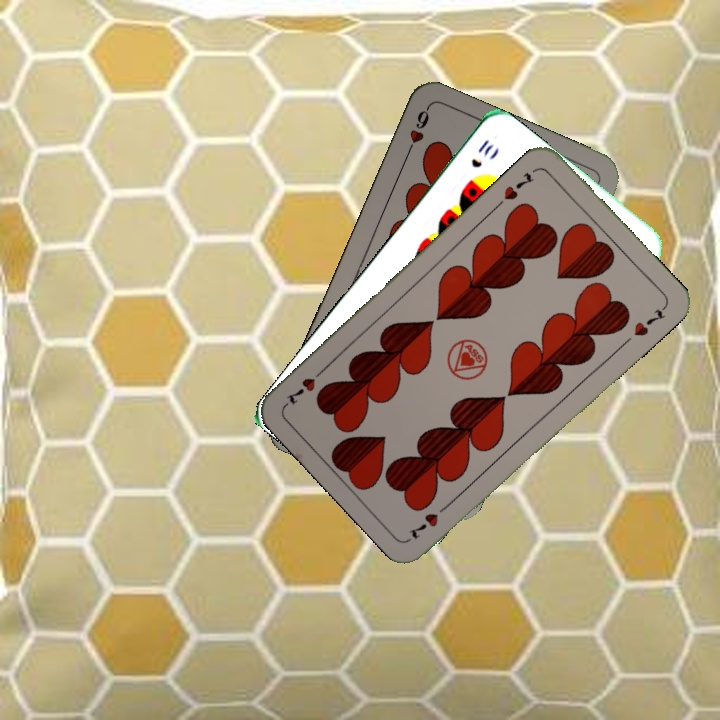H7: (405, 498, 454, 542), (500, 168, 537, 203)
H9: (401, 104, 432, 160)
S10: (467, 135, 496, 171)
